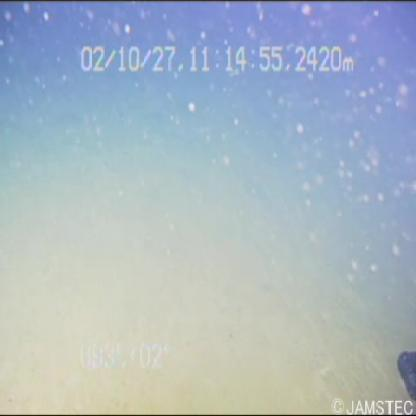Rác: (385, 338, 416, 404)
